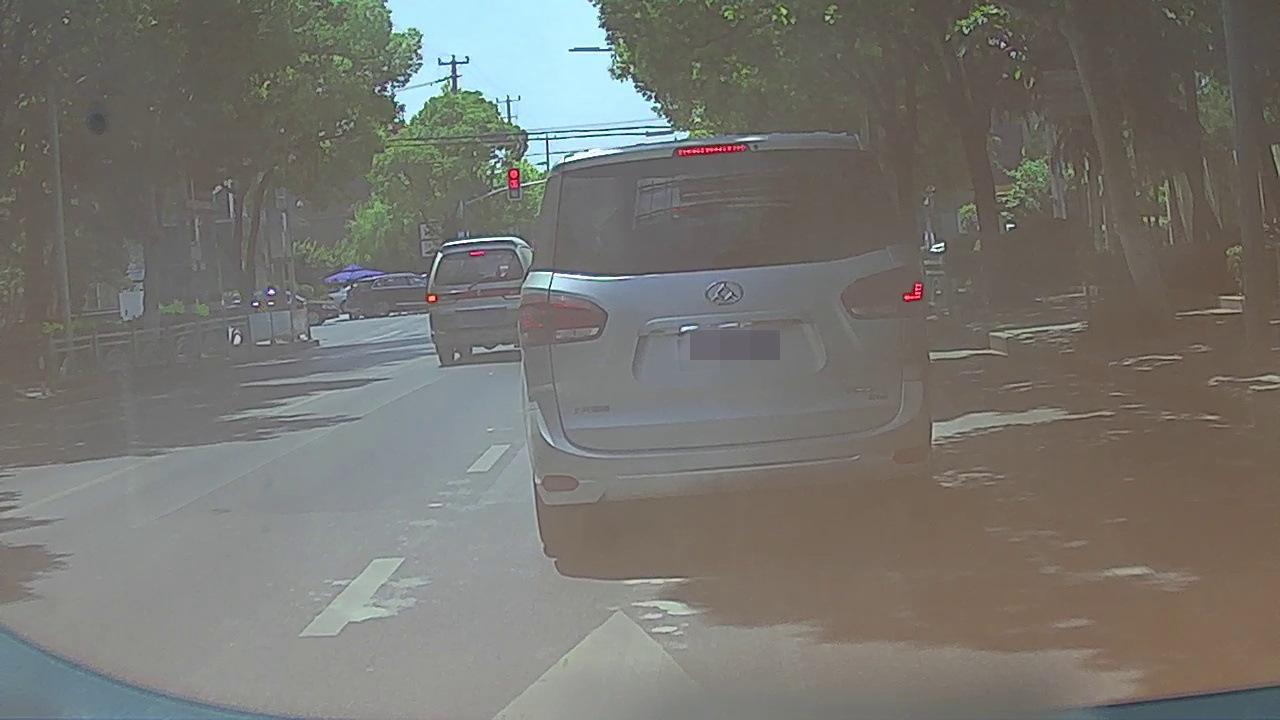traffic_light: (506, 167, 520, 200)
